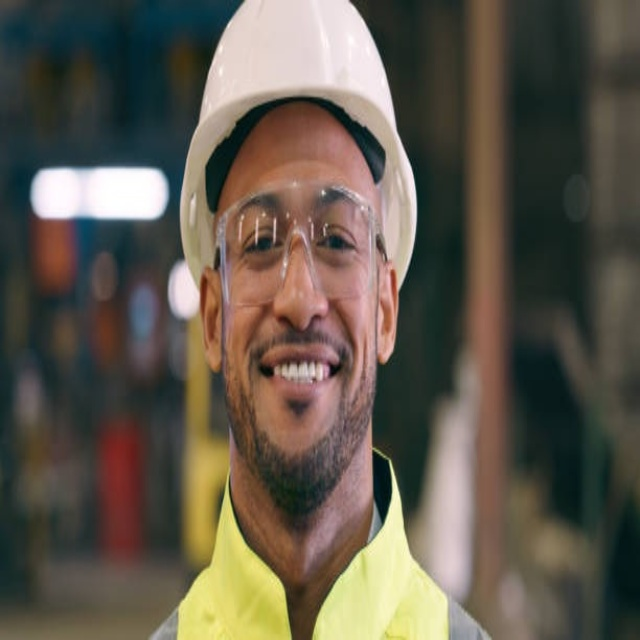Gafas: (213, 183, 388, 307)
Sin_mascara: (247, 321, 343, 460)
